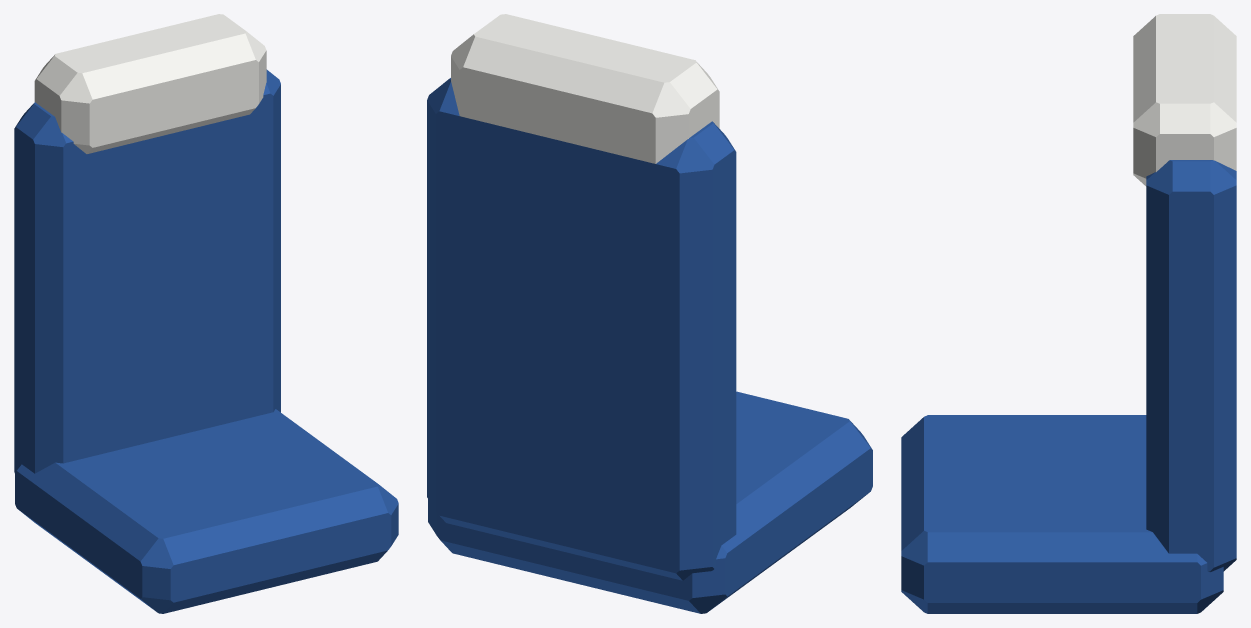
Rendered from seat.glb.
3 renders of one model, left to right at view 1: azimuth 30°, elevation 25°; view 2: azimuth 150°, elevation 25°; view 3: azimuth 270°, elevation 25°, orthographic. The views are drawn at different scales.
Visible parts, largest first — view 1: root; view 2: root; view 3: root.
Boxes of the visible parts, bbox=[...] form: root: bbox=[14, 14, 398, 613]; root: bbox=[427, 14, 872, 613]; root: bbox=[901, 14, 1236, 613].
Size of the model in its own units: 0.5 by 0.85 by 0.52.
